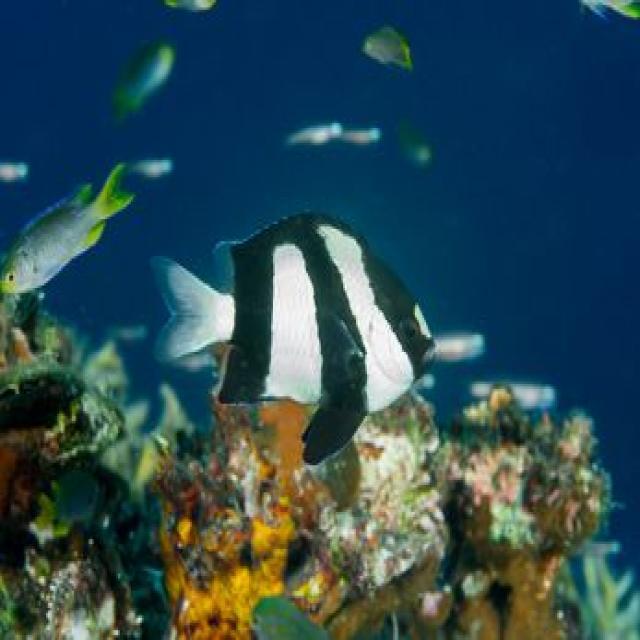ThreeStripedDamselfish: (151, 212, 437, 468)
